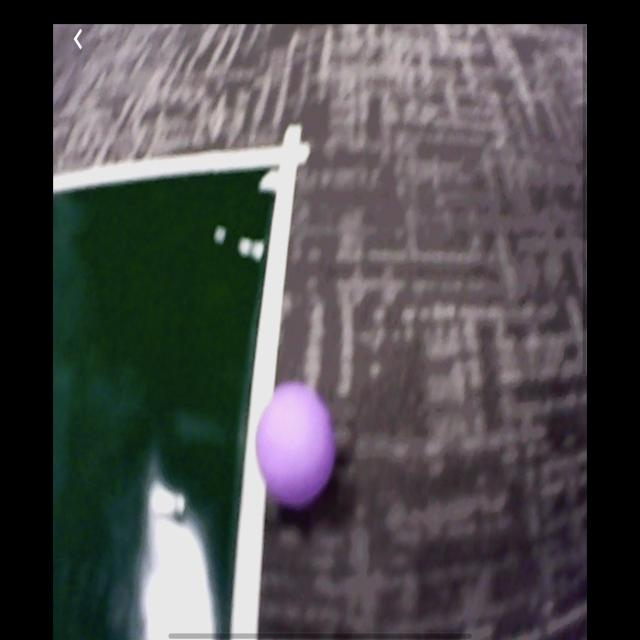ball: (255, 379, 338, 512)
